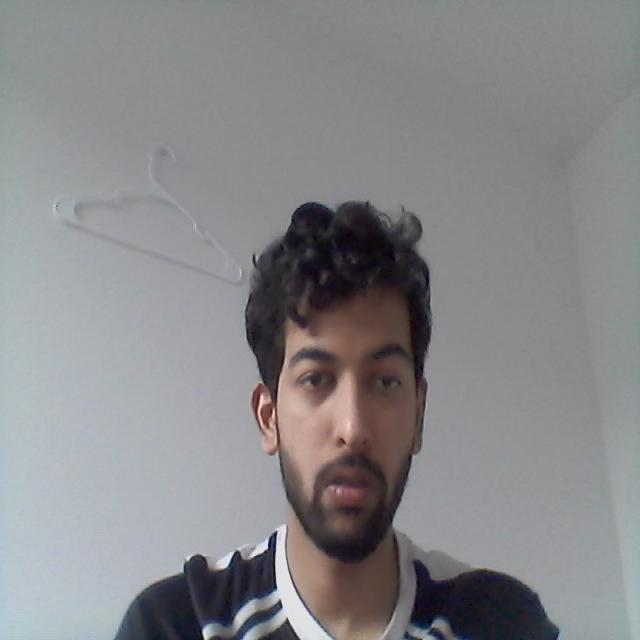nocap: (227, 189, 478, 411)
